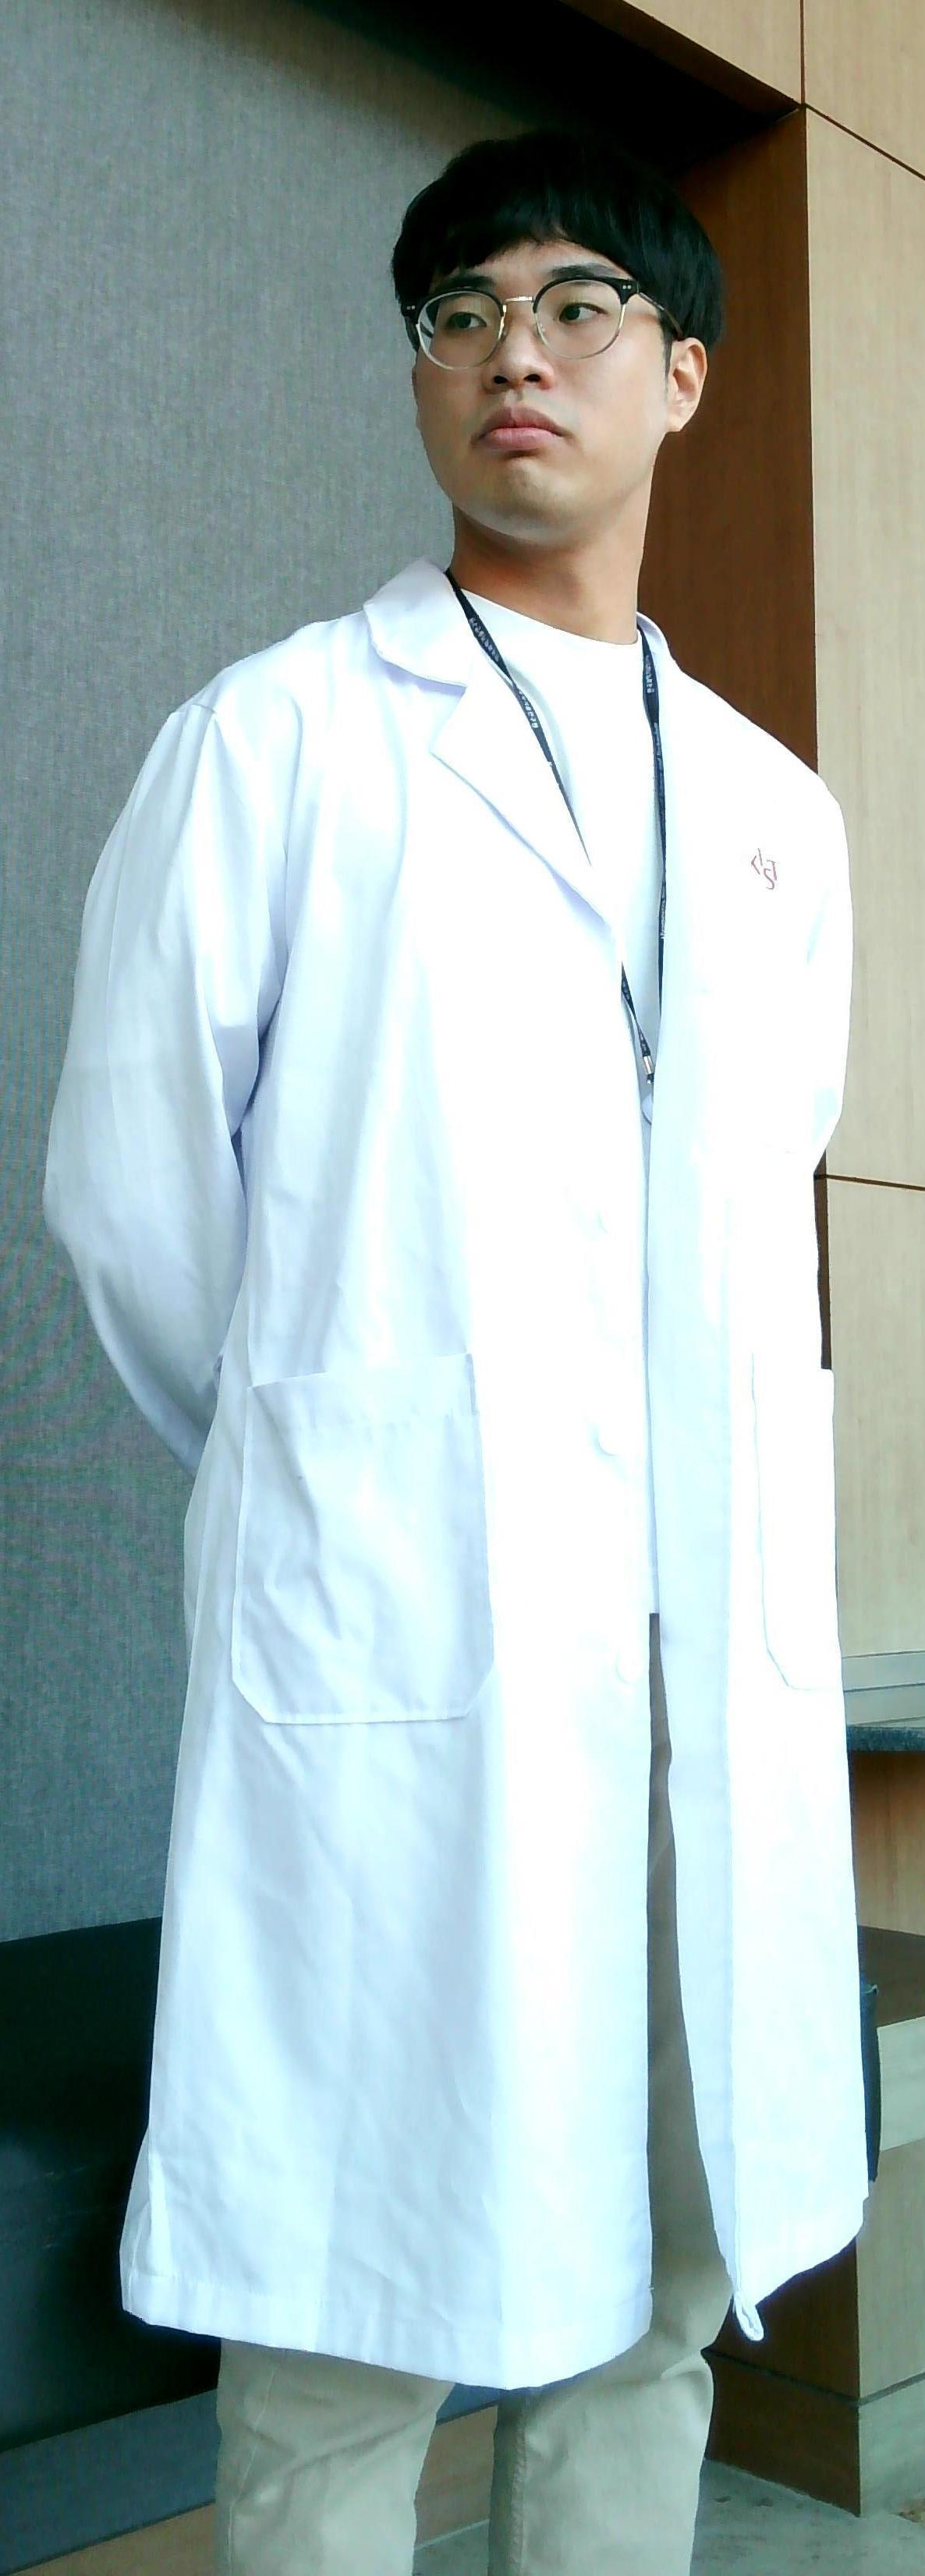lab_coat: (41, 649, 918, 2343)
